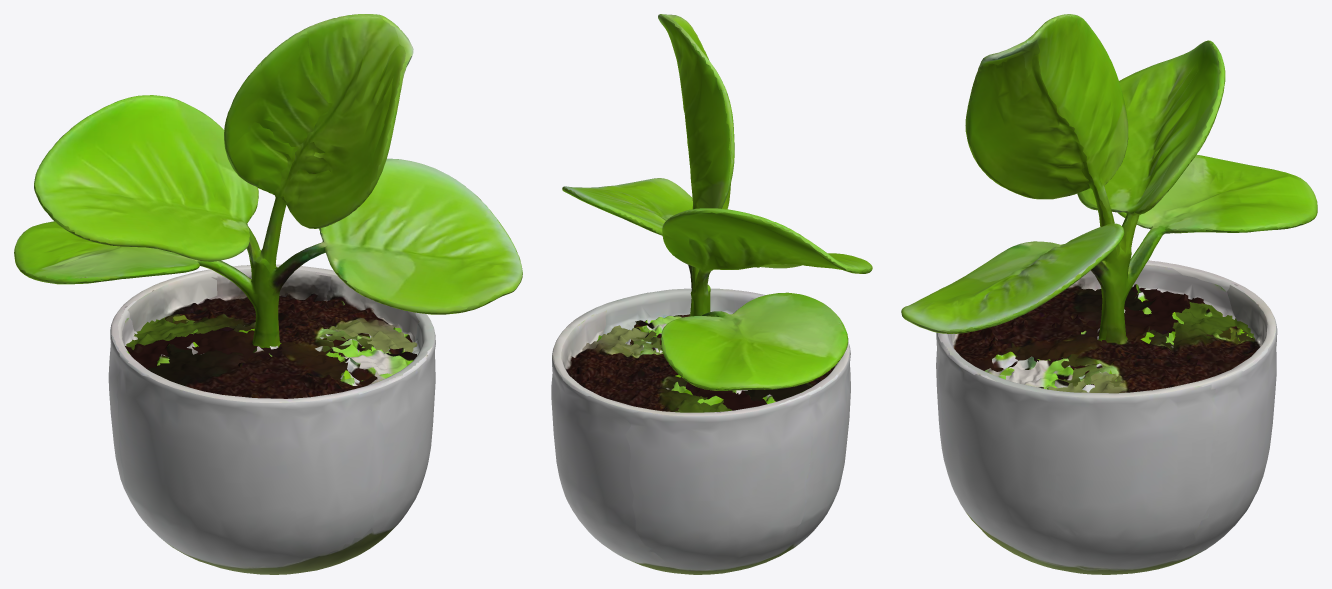
File: biomechanical-growth-planter-generated-2026-04-18T02-42-42-855Z.medium.glb
3 renders of one model, left to right at view 1: azimuth 30°, elevation 25°; view 2: azimuth 150°, elevation 25°; view 3: azimuth 270°, elevation 25°, orthographic. The views are drawn at different scales.
Parts seen in each view (by area): view 1: temp_mesh.ply; view 2: temp_mesh.ply; view 3: temp_mesh.ply.
Part boxes in pixels (x1=…): temp_mesh.ply: x1=14, y1=14, x2=522, y2=574; temp_mesh.ply: x1=551, y1=14, x2=872, y2=574; temp_mesh.ply: x1=901, y1=14, x2=1317, y2=574.
Bounding box in the file's own units: 1.48 × 1.97 × 1.34.
Materials: 1 (1 with a texture image).
